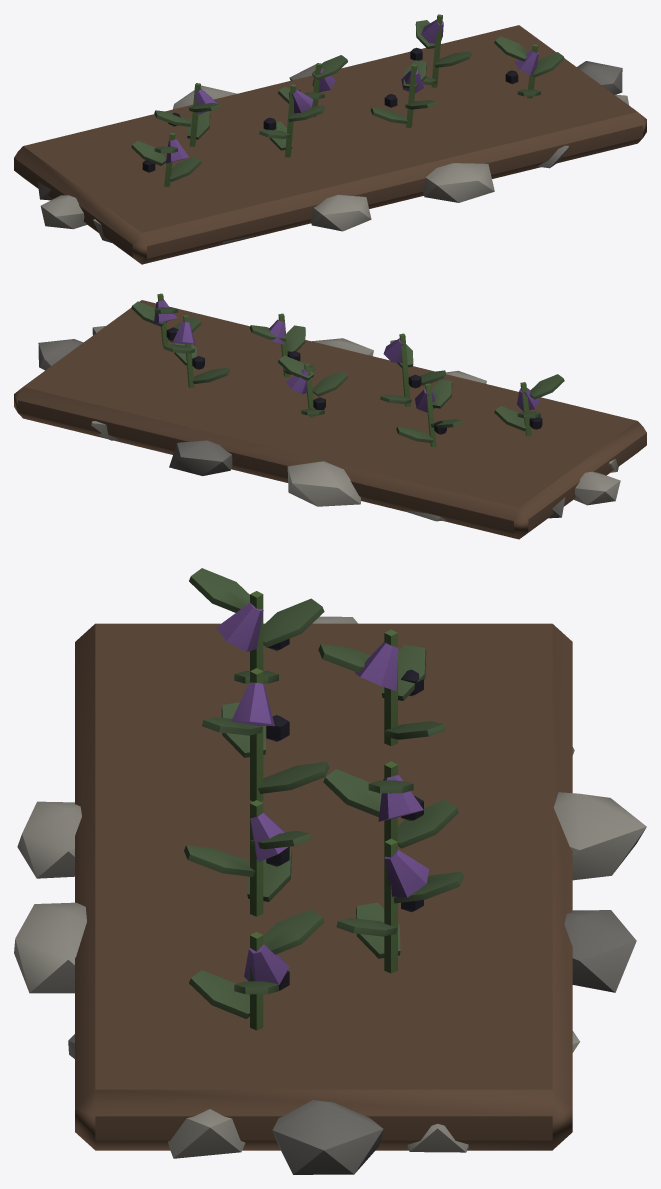
The model's file is flowerbed_nightshade.glb.
The picture shows the model from 3 angles, top to bottom: view 1: azimuth 30°, elevation 25°; view 2: azimuth 150°, elevation 25°; view 3: azimuth 270°, elevation 25°; orthographic projection. The views are drawn at different scales.
Parts seen in each view (by area): view 1: flowerbed_nightshade; view 2: flowerbed_nightshade; view 3: flowerbed_nightshade.
Boxes of the visible parts, <box> form: flowerbed_nightshade: <box>14,14,646,264</box>; flowerbed_nightshade: <box>14,293,646,539</box>; flowerbed_nightshade: <box>14,568,646,1174</box>.
Size of the model in its own units: 1.91 by 0.3208 by 0.9415.
